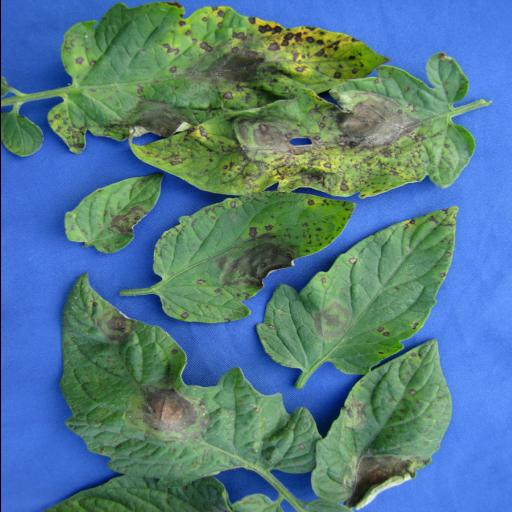disease_tomato: (38, 268, 310, 496), (45, 5, 389, 166), (125, 54, 501, 197), (264, 204, 460, 378), (150, 192, 354, 329), (307, 336, 447, 508), (62, 176, 164, 258)
